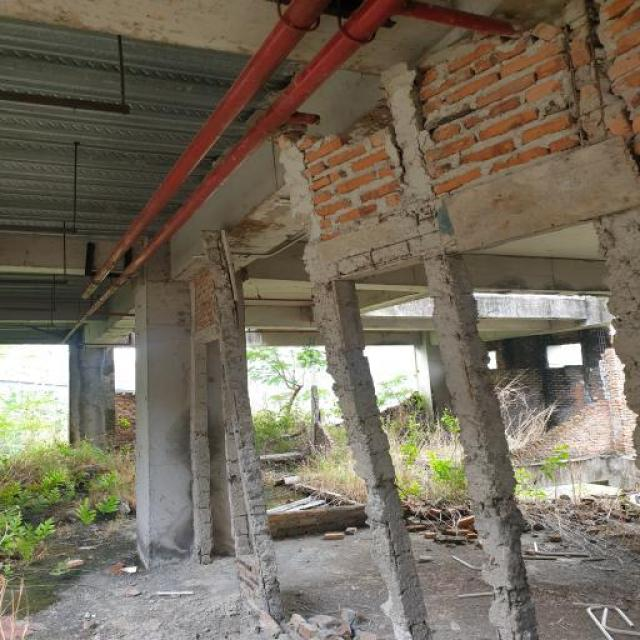D0w0: (321, 198, 456, 280), (565, 0, 610, 148), (201, 230, 236, 340)
